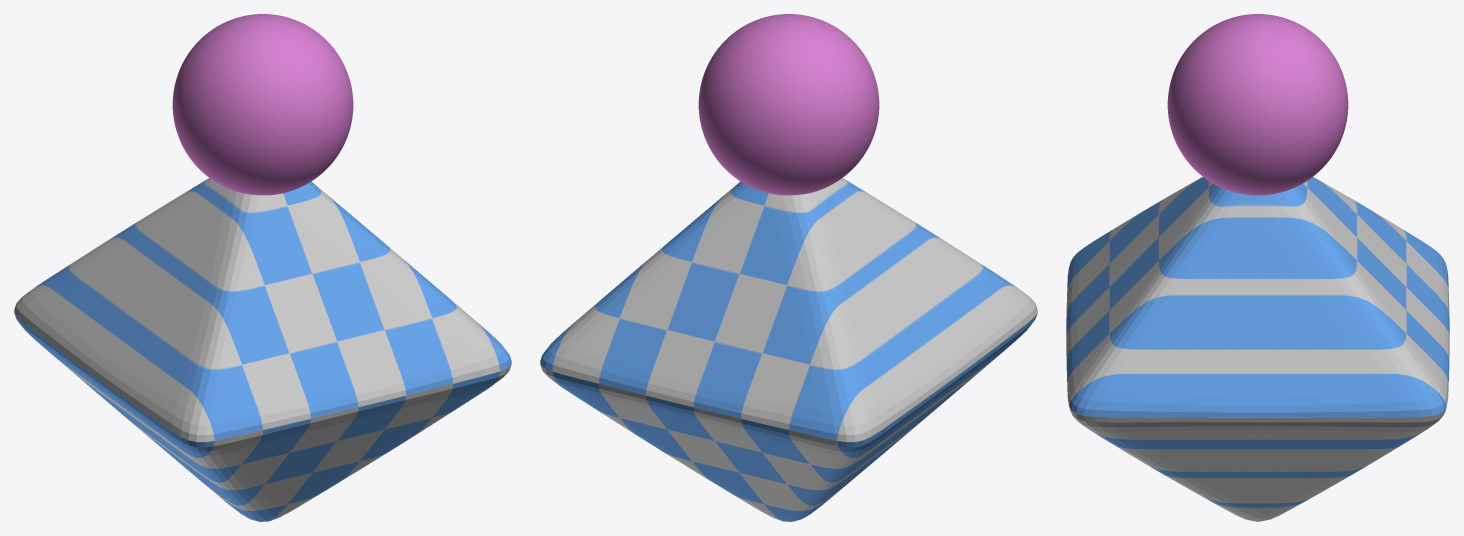
The model's file is BOD4_BMC1_BCC13_BPT4_FRC0_HEA0_HMC10_HCC0_HPT0_ELT0_ERT0_ELL0_ERL0_AP0_AAL0_AAR0_BEK0.fbx.
The picture shows the model from 3 angles, left to right: view 1: azimuth 30°, elevation 25°; view 2: azimuth 150°, elevation 25°; view 3: azimuth 270°, elevation 25°; orthographic projection.
Parts seen in each view (by area): view 1: Body, Head; view 2: Body, Head; view 3: Body, Head.
Part boxes in pixels (<box>): Body: <box>14,178,511,521</box>; Head: <box>172,14,353,195</box>; Body: <box>540,178,1037,521</box>; Head: <box>698,14,879,195</box>; Body: <box>1066,177,1449,521</box>; Head: <box>1167,14,1348,195</box>.
Size of the model in its own units: 105 by 150 by 105.
Materials: 2 (2 with a texture image).
